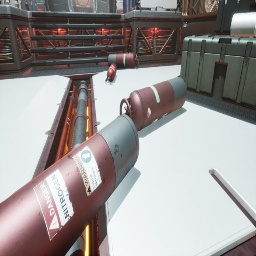0: (230, 12, 256, 36)
FireExtinguisher ]: (105, 63, 117, 82), (129, 6, 140, 11), (146, 8, 151, 10)
FirstAidBox ,: (0, 0, 1, 4)
NitrogenTank ,: (0, 114, 139, 256), (120, 77, 187, 132), (108, 52, 139, 68)
